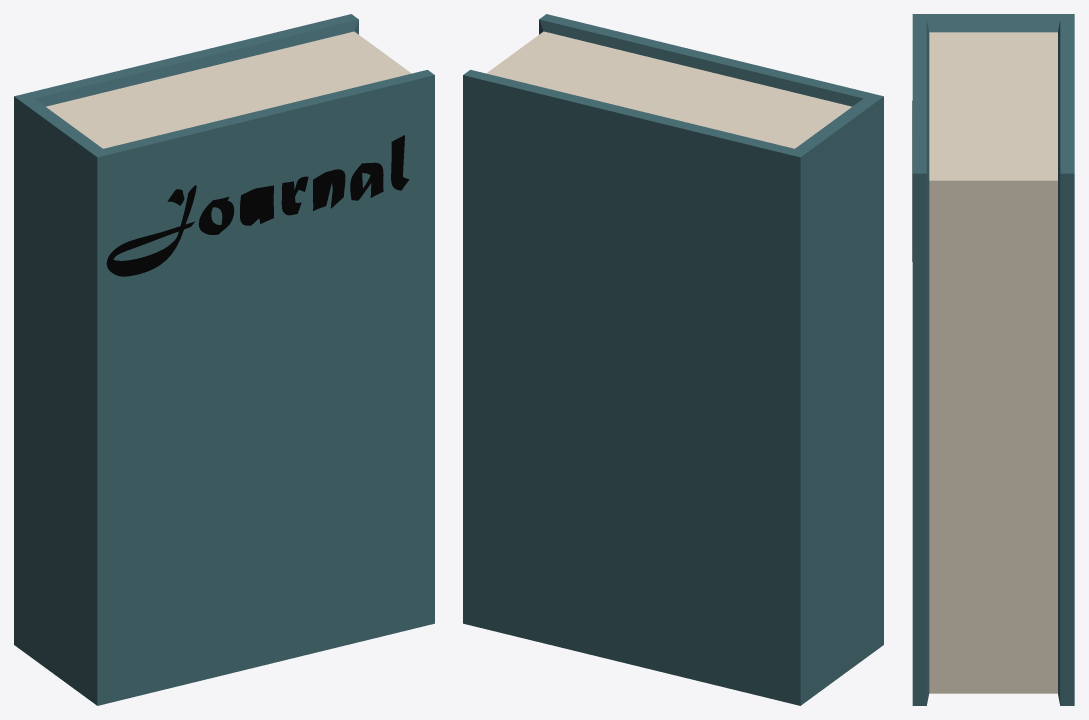
File: Journal1.fbx
3 views of the same model, side by side, from view 1: azimuth 30°, elevation 25°; view 2: azimuth 150°, elevation 25°; view 3: azimuth 270°, elevation 25° (orthographic). The views are drawn at different scales.
Visible parts, largest first — view 1: Journal1; view 2: Journal1; view 3: Journal1.
Boxes of the visible parts, x1,y1,x2,y2 form: Journal1: [14, 14, 434, 705]; Journal1: [463, 14, 883, 705]; Journal1: [912, 14, 1074, 705].
Bounding box in the file's own units: 18.28 × 28.4 × 7.84.
